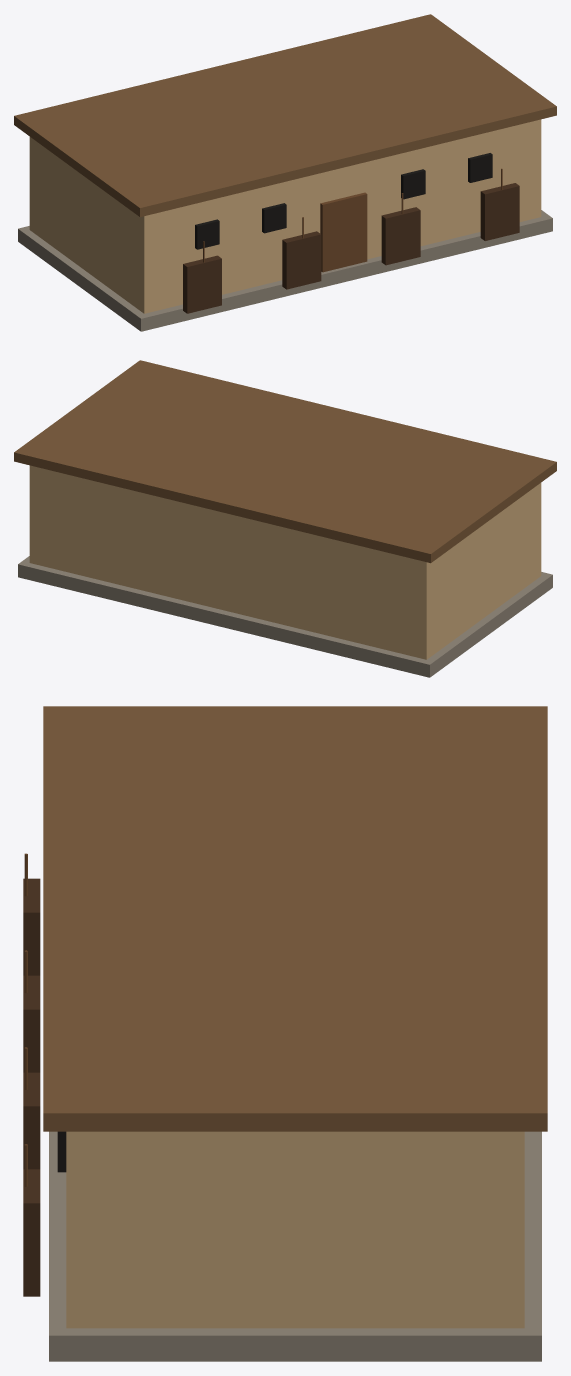
Rendered from barracks.glb.
The picture shows the model from 3 angles, top to bottom: view 1: azimuth 30°, elevation 25°; view 2: azimuth 150°, elevation 25°; view 3: azimuth 270°, elevation 25°; orthographic projection. The views are drawn at different scales.
Parts seen in each view (by area): view 1: Barracks; view 2: Barracks; view 3: Barracks.
Part boxes in pixels (<box>): Barracks: <box>14,14,556,331</box>; Barracks: <box>14,360,556,677</box>; Barracks: <box>23,706,547,1361</box>.
Bounding box in the file's own units: 16.8 × 4.83 × 9.15.
